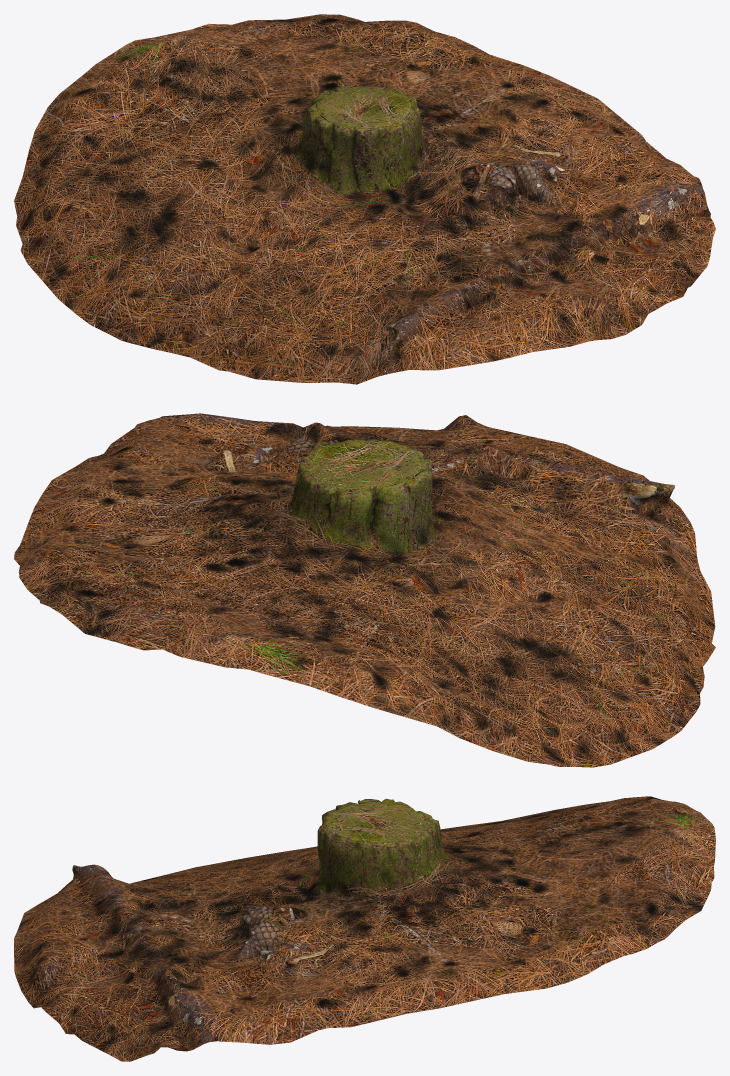
3 renders of one model, top to bottom at view 1: azimuth 30°, elevation 25°; view 2: azimuth 150°, elevation 25°; view 3: azimuth 270°, elevation 25°, orthographic. The views are drawn at different scales.
Visible parts, largest first — view 1: Aset_trees_stump_S_rhiuf_LOD4.006; view 2: Aset_trees_stump_S_rhiuf_LOD4.006; view 3: Aset_trees_stump_S_rhiuf_LOD4.006.
Boxes of the visible parts, left/top/right/bottom form: Aset_trees_stump_S_rhiuf_LOD4.006: left=14, top=14, right=715, bottom=384; Aset_trees_stump_S_rhiuf_LOD4.006: left=14, top=413, right=715, bottom=767; Aset_trees_stump_S_rhiuf_LOD4.006: left=14, top=796, right=715, bottom=1061.
Size of the model in its own units: 128 by 36.26 by 140.
